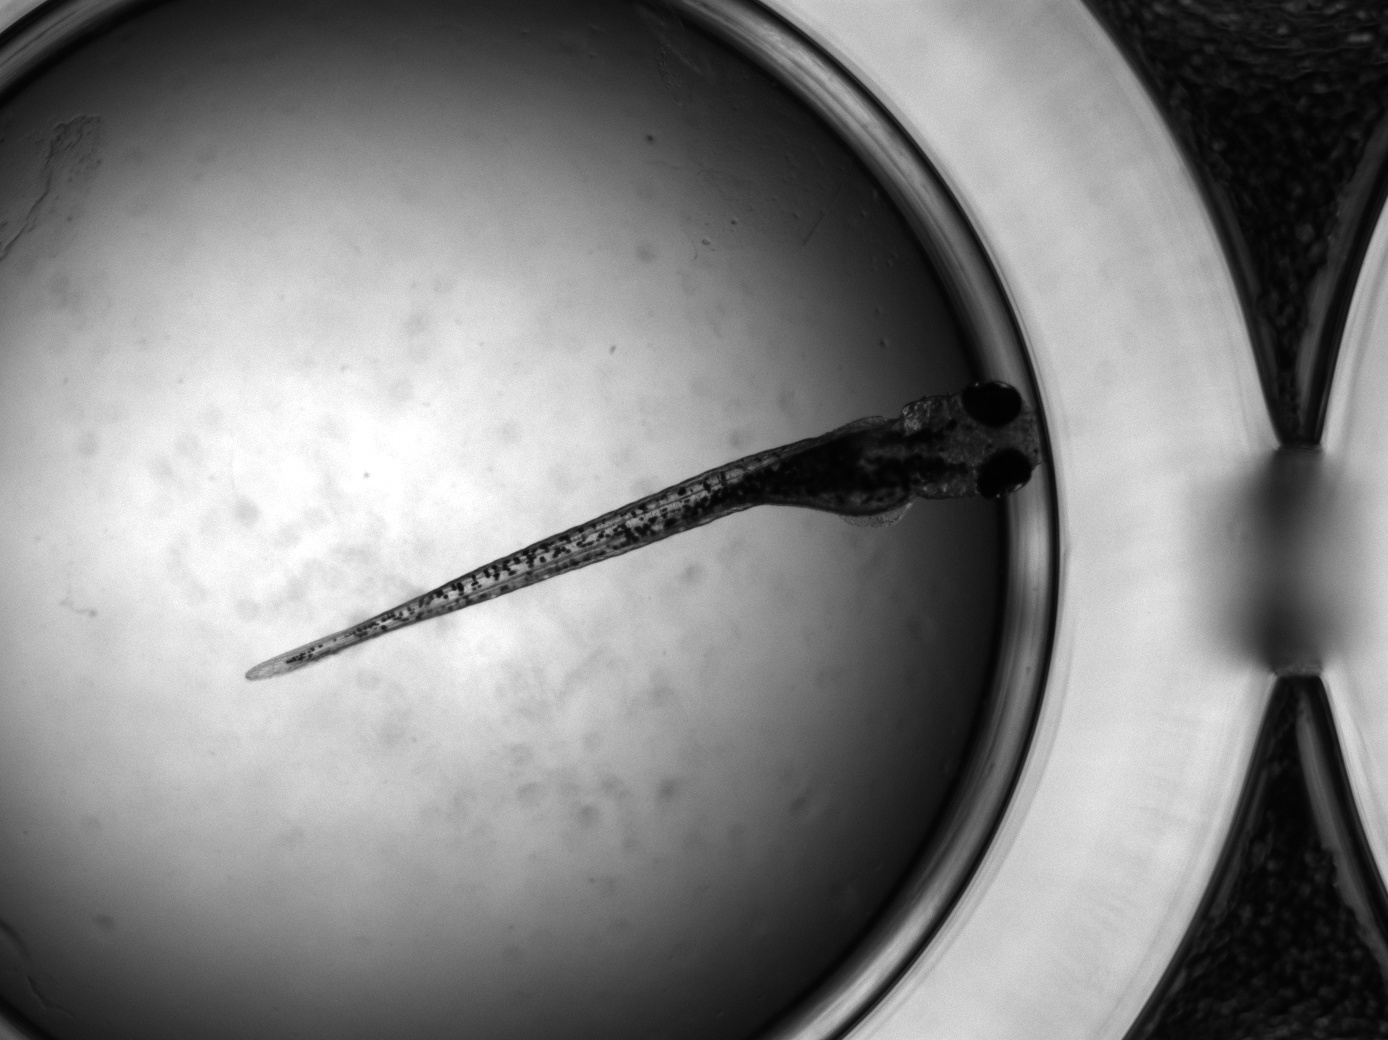embryo: (245, 379, 1042, 679)
eye: (976, 447, 1034, 499), (960, 380, 1021, 427)
yolksac: (745, 414, 920, 511)
